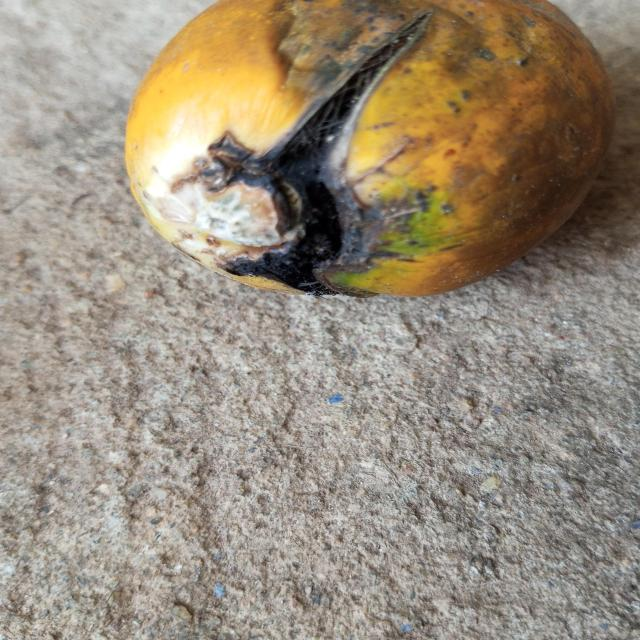damaged: (124, 0, 615, 301)
